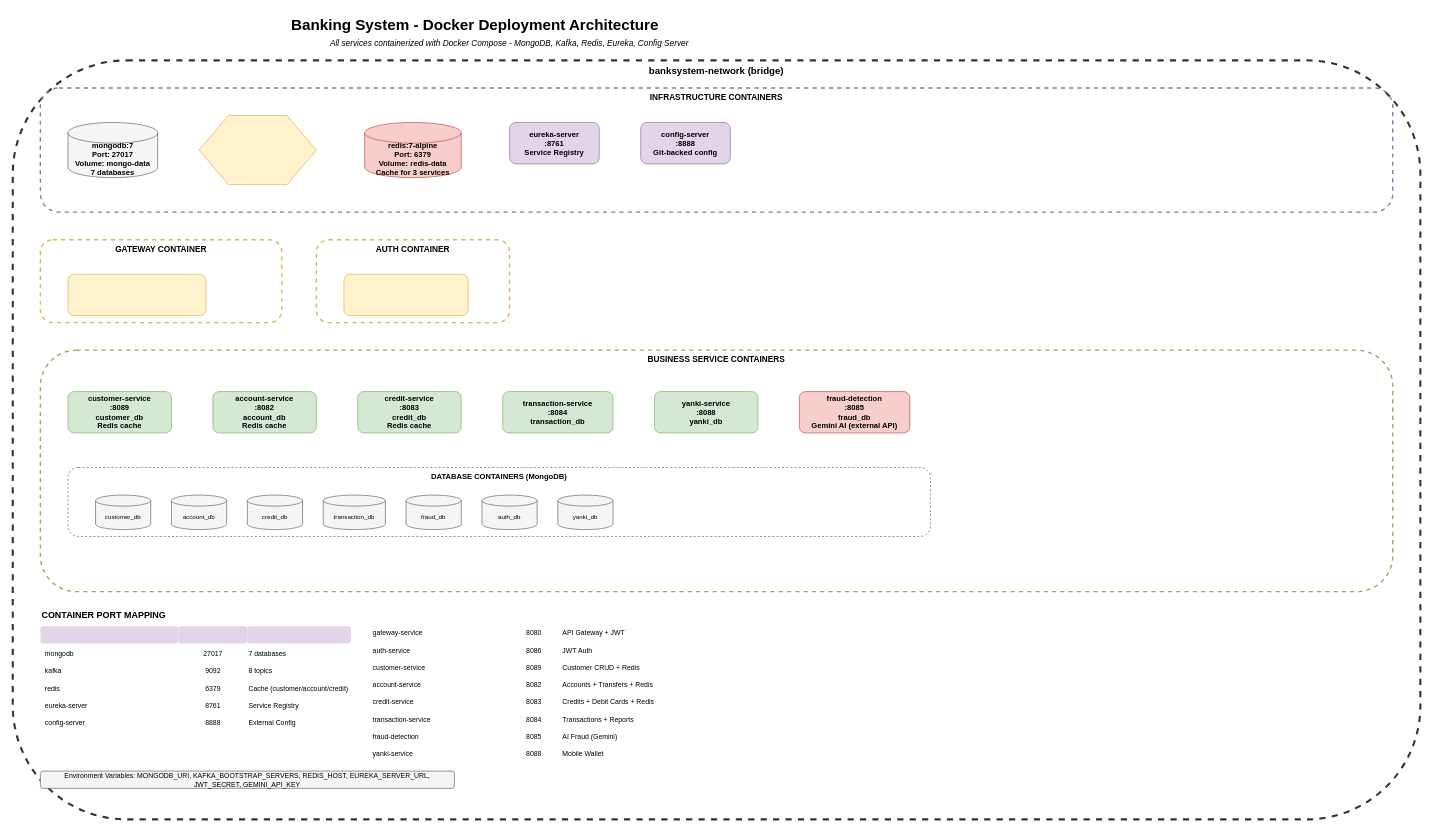
Image size: 1433x832. Some labels were removed from this diagram. The shapes that lost their labels are listed below. From the top down, each one's centre as x and y in pixels, then its label:
At (257,150): "confluentinc/cp-kafka Port: 9092 KRaft mode Topics auto-created".
At (136,295): "gateway-service :8080 Spring Cloud Gateway JWT Authentication Filter".
At (405,295): "auth-service :8086 JWT Token Generation auth_db".
At (109,634): "Container".
At (212,634): "Host Port".
At (299,634): "Database".
